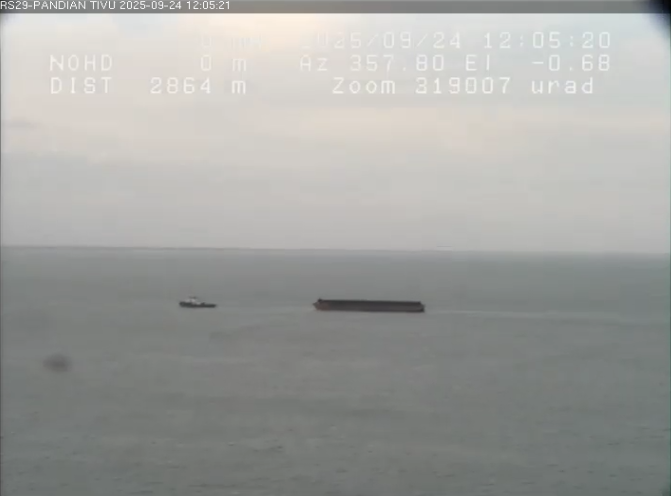BARGE: (279, 281, 440, 334)
OFFSHORE_SUPPLY_VESSEL: (163, 283, 229, 324)
TOWING: (135, 254, 468, 379)
